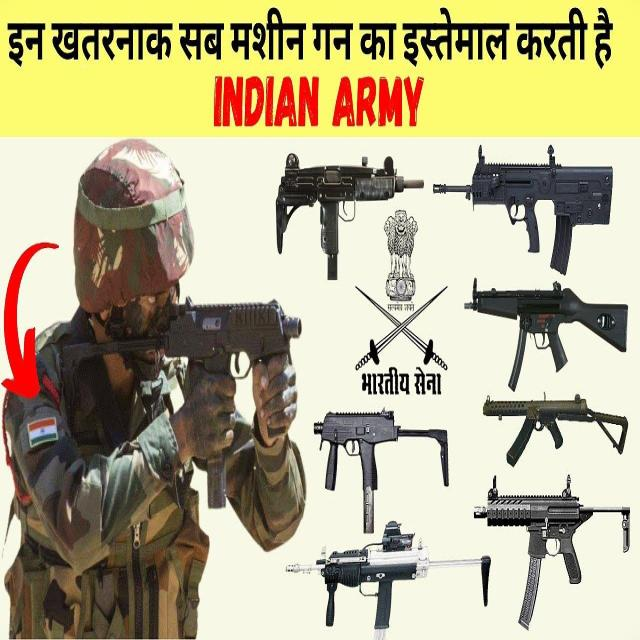weapon: (66, 300, 304, 510), (474, 475, 633, 630), (434, 148, 622, 279), (283, 522, 492, 628), (268, 150, 424, 286), (308, 404, 456, 538), (460, 278, 630, 394), (482, 394, 628, 469)
